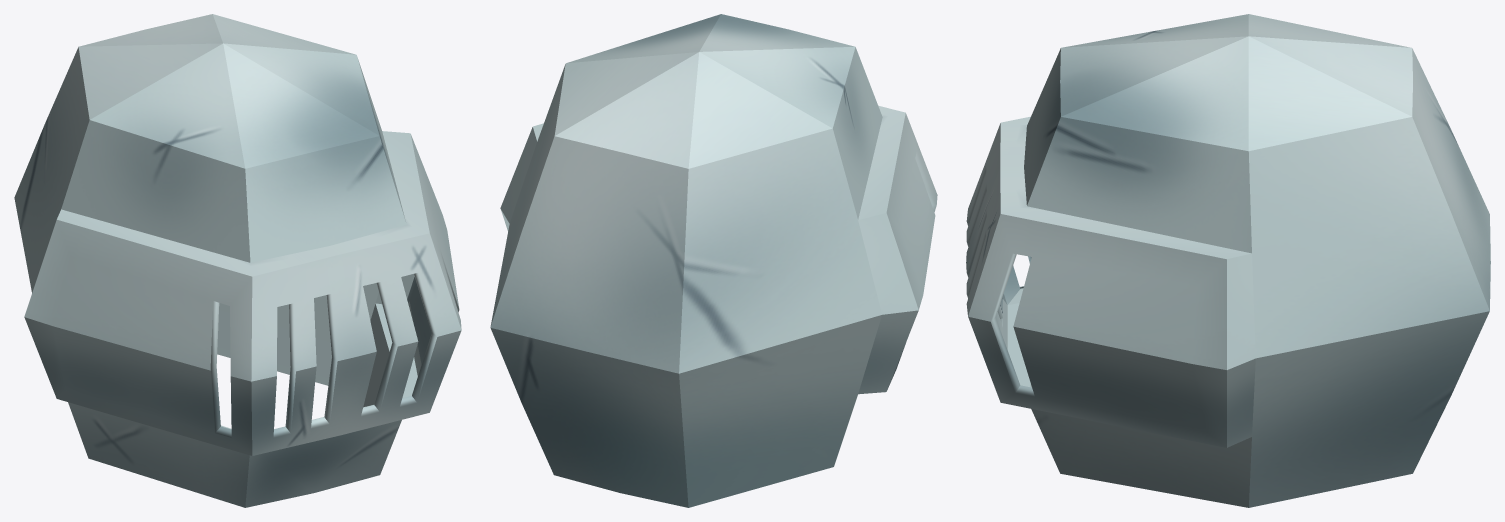
The model's file is knight-helmet-fixed.fbx.
The picture shows the model from 3 angles, left to right: view 1: azimuth 30°, elevation 25°; view 2: azimuth 150°, elevation 25°; view 3: azimuth 270°, elevation 25°; orthographic projection. The views are drawn at different scales.
Parts seen in each view (by area): view 1: pSphere5; view 2: pSphere5; view 3: pSphere5.
Boxes of the visible parts, x1,y1,x2,y2 form: pSphere5: (14,14,461,507); pSphere5: (490,14,937,507); pSphere5: (966,14,1490,507).
Size of the model in its own units: 0.6915 by 0.6046 by 0.7131.
1 material, 1 textured.
